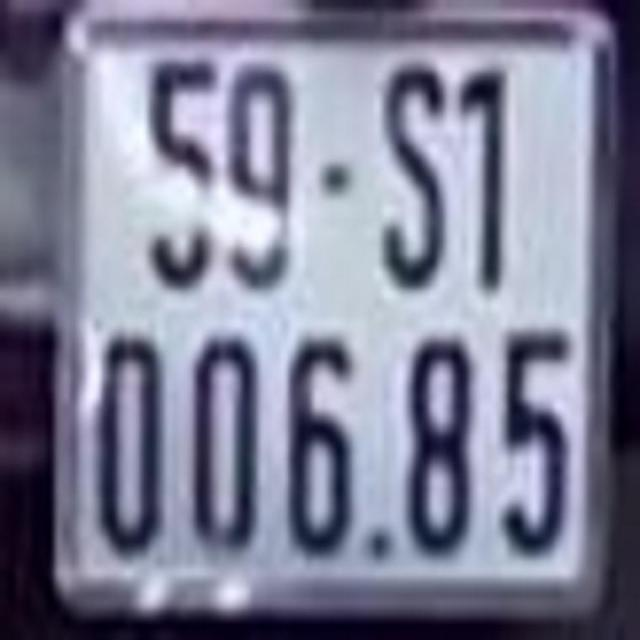0: (194, 332, 264, 550), (96, 332, 160, 550)
1: (460, 62, 503, 292)
5: (504, 324, 570, 554), (149, 60, 214, 282)
6: (291, 336, 354, 554)
8: (401, 333, 475, 546)
9: (229, 60, 295, 279)
S: (382, 59, 442, 284)
